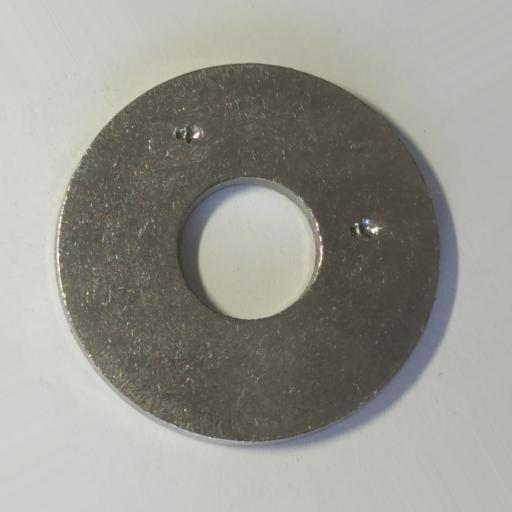circular_cavity: (349, 219, 380, 241), (177, 125, 203, 145)
